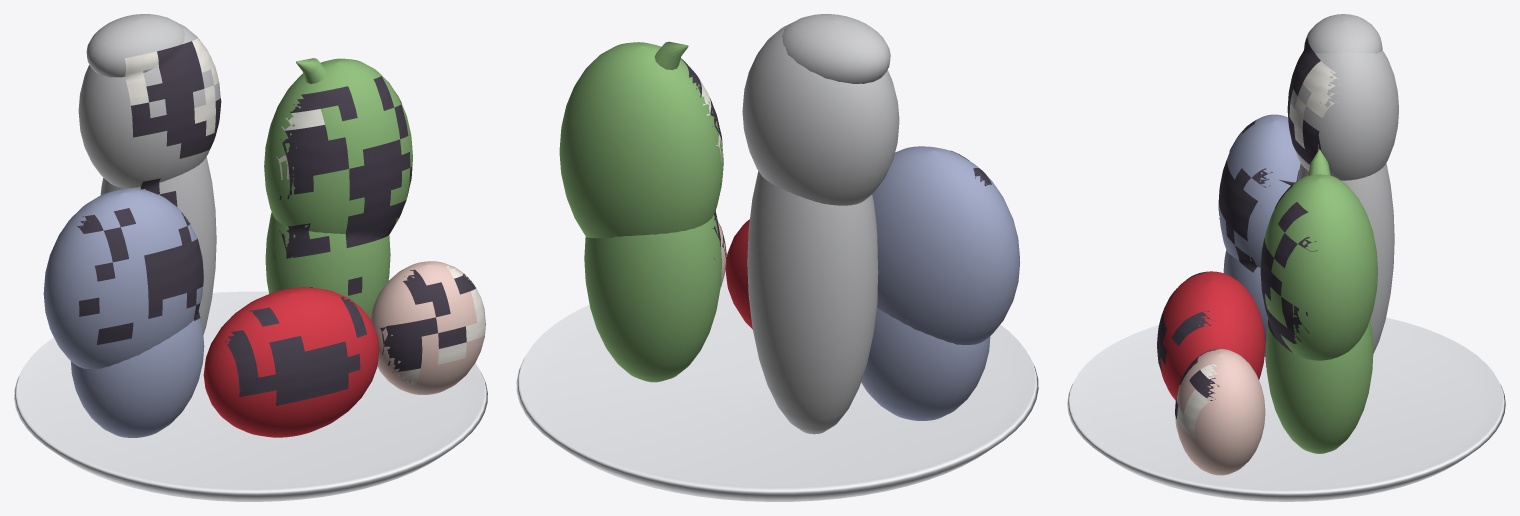
File: kids_menu.glb
3 views of the same model, side by side, from view 1: azimuth 30°, elevation 25°; view 2: azimuth 150°, elevation 25°; view 3: azimuth 270°, elevation 25° (orthographic). The views are drawn at different scales.
Size of the model in its own units: 26.51 by 24.31 by 26.33.
